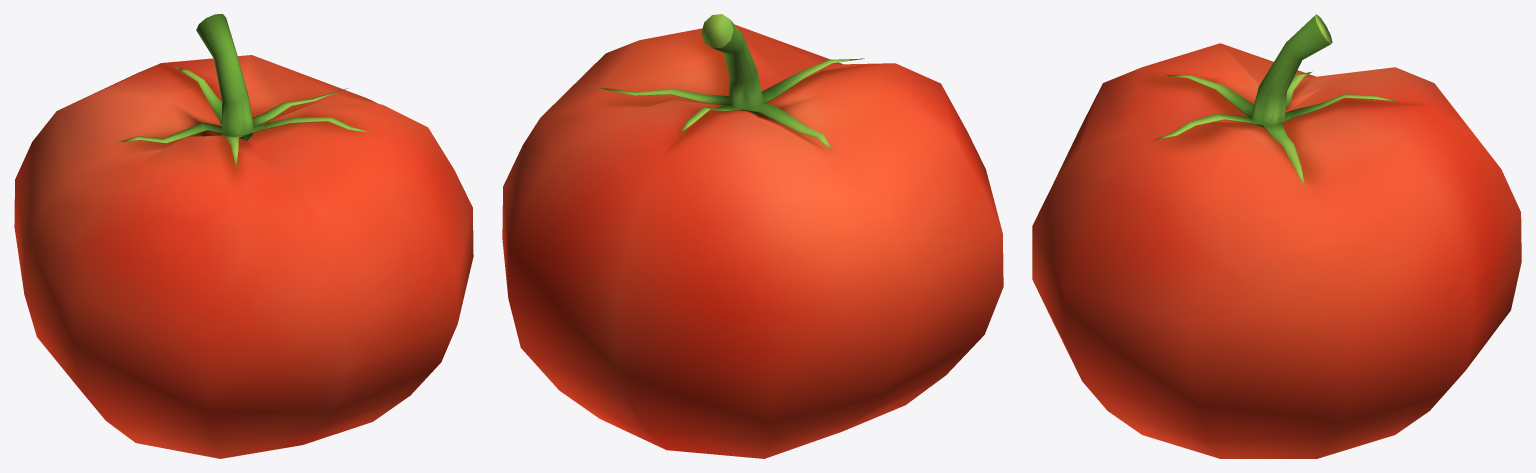
The model's file is tomato.FBX.
3 views of the same model, side by side, from view 1: azimuth 30°, elevation 25°; view 2: azimuth 150°, elevation 25°; view 3: azimuth 270°, elevation 25° (orthographic). The views are drawn at different scales.
Visible parts, largest first — view 1: tomato; view 2: tomato; view 3: tomato.
Boxes of the visible parts, <box> form: tomato: <box>14,14,473,458</box>; tomato: <box>502,14,1003,458</box>; tomato: <box>1032,14,1521,458</box>.
Bounding box in the file's own units: 36 × 33.11 × 36.58.
